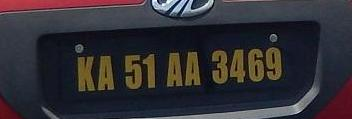1: (141, 51, 157, 89)
3: (208, 47, 228, 85)
4: (227, 47, 245, 83)
5: (122, 52, 142, 90)
6: (245, 47, 265, 82)
9: (263, 45, 282, 81)
A: (95, 53, 115, 91), (182, 49, 201, 87), (164, 50, 183, 87)
K: (75, 54, 95, 92)
